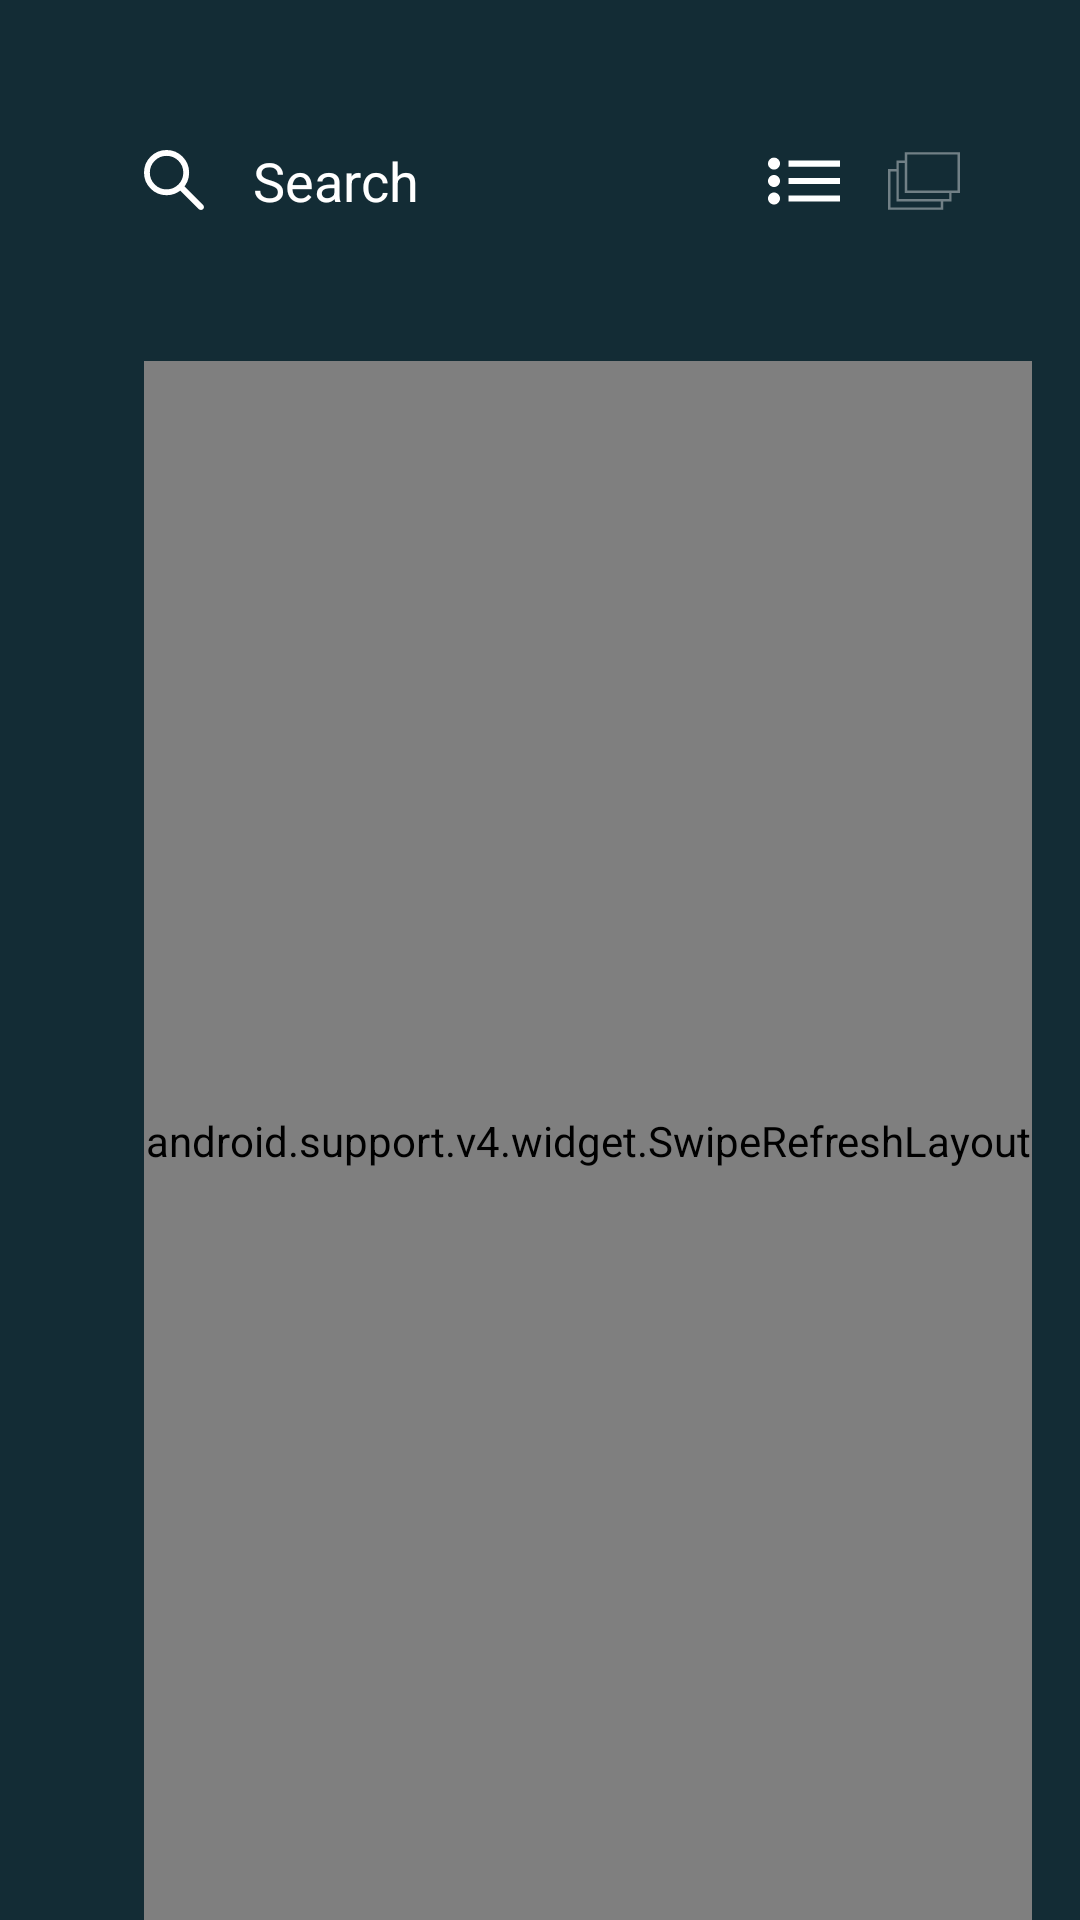

Icons on this 1080x1920 Android screen, each with its box as box=[x1, y1, x2, y2]:
multi page: box=[888, 152, 960, 210]
single page: box=[768, 157, 840, 205]
